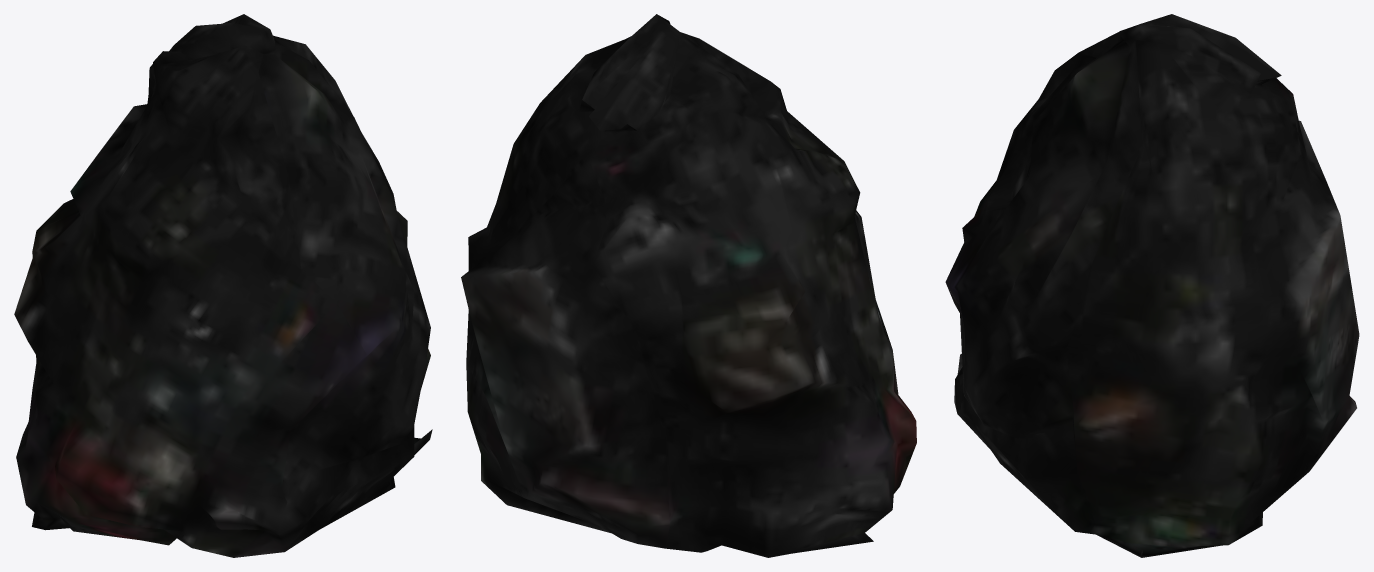
The model's file is sac_poubelle_lod1.glb.
3 views of the same model, side by side, from view 1: azimuth 30°, elevation 25°; view 2: azimuth 150°, elevation 25°; view 3: azimuth 270°, elevation 25° (orthographic). The views are drawn at different scales.
Parts seen in each view (by area): view 1: trashbag; view 2: trashbag; view 3: trashbag.
Part boxes in pixels (x1,y1,x2,y2): trashbag: (14, 14, 432, 557); trashbag: (461, 14, 916, 557); trashbag: (945, 14, 1359, 557).
Bounding box in the file's own units: 0.523 × 0.5712 × 0.4629.
1 material, 1 textured.
